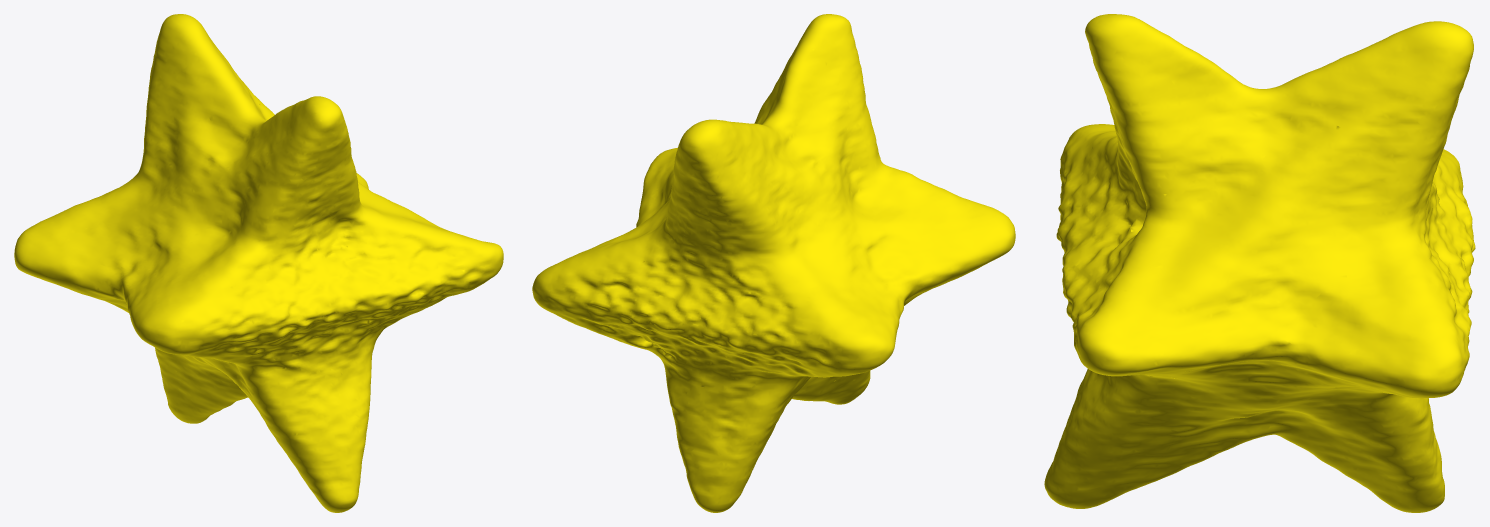
The model's file is octapod.glb.
3 renders of one model, left to right at view 1: azimuth 30°, elevation 25°; view 2: azimuth 150°, elevation 25°; view 3: azimuth 270°, elevation 25°, orthographic. The views are drawn at different scales.
Visible parts, largest first — view 1: octapod_450; view 2: octapod_450; view 3: octapod_450.
Part boxes in pixels (left/top/right/bottom): octapod_450: left=14, top=14, right=503, bottom=512; octapod_450: left=532, top=14, right=1015, bottom=512; octapod_450: left=1044, top=14, right=1475, bottom=512.
Size of the model in its own units: 181 by 195 by 152.
